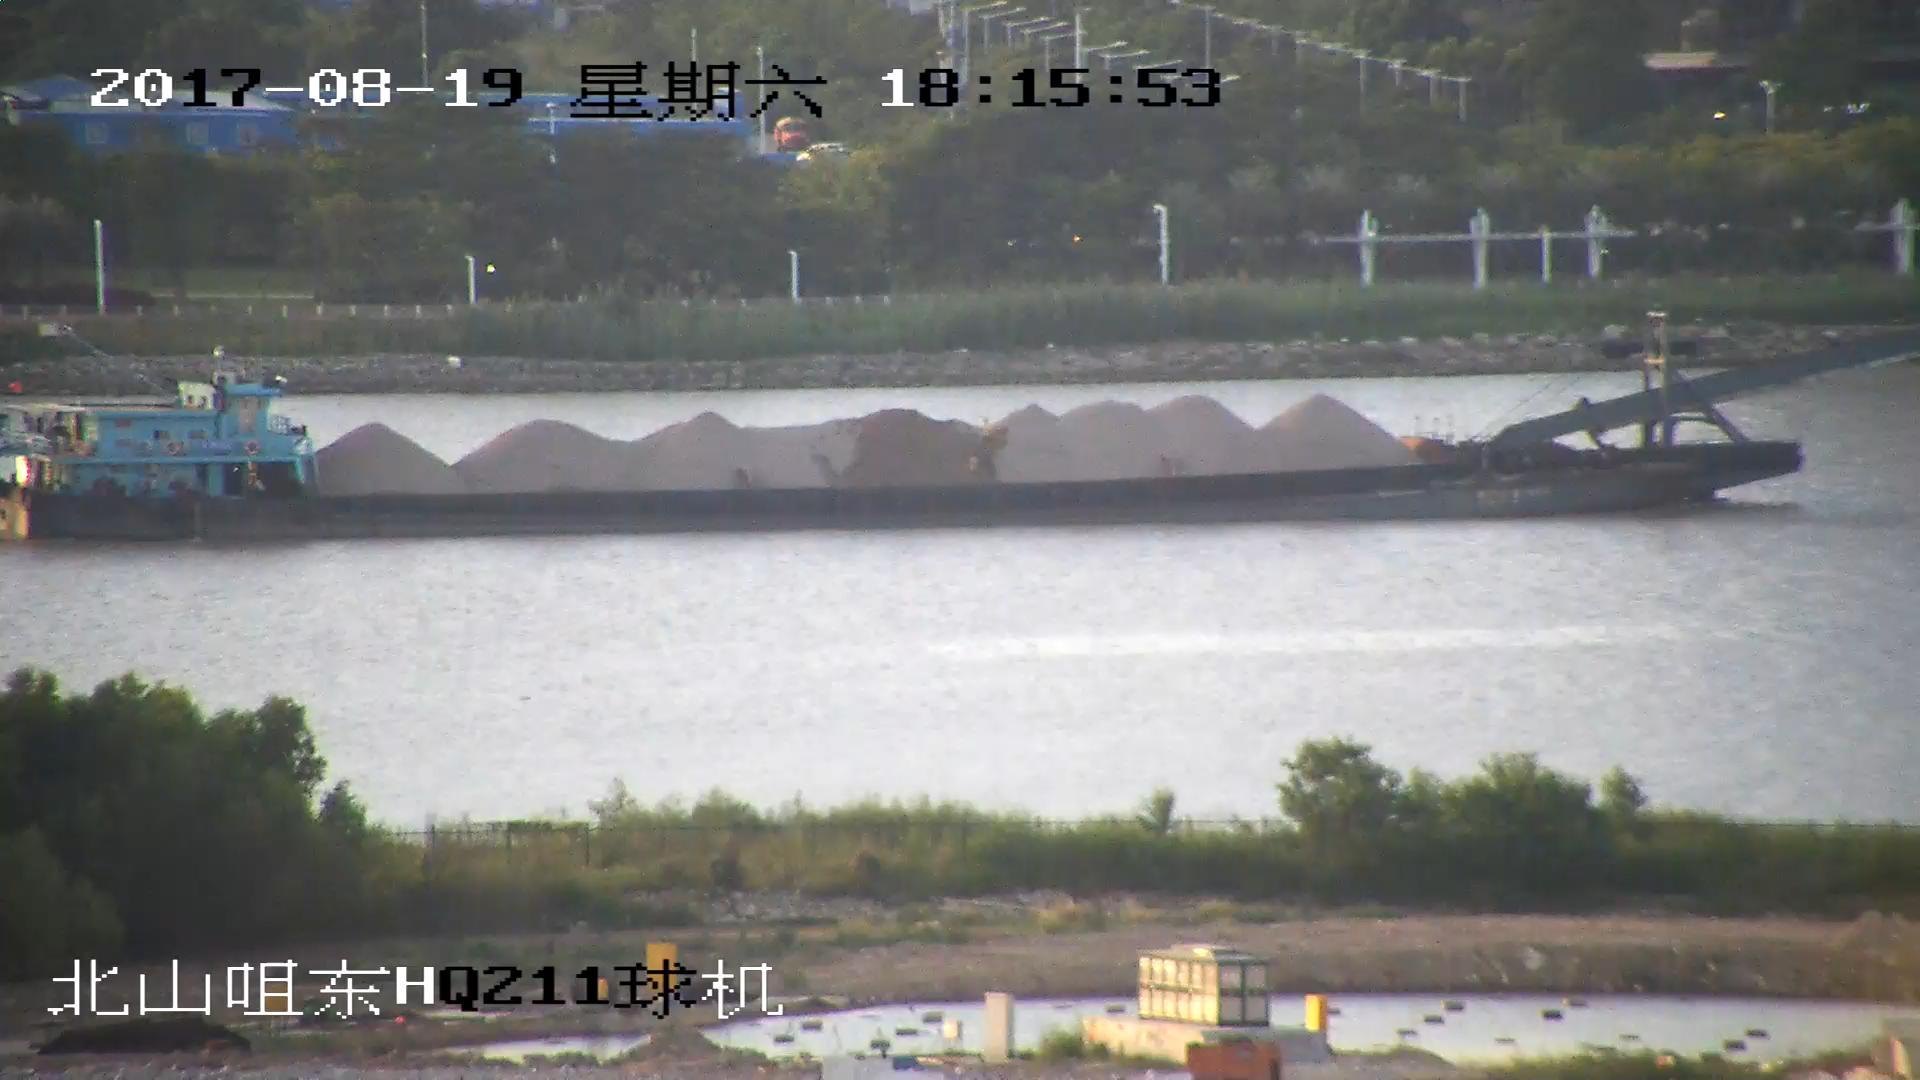Ship: (3, 313, 1920, 543)
